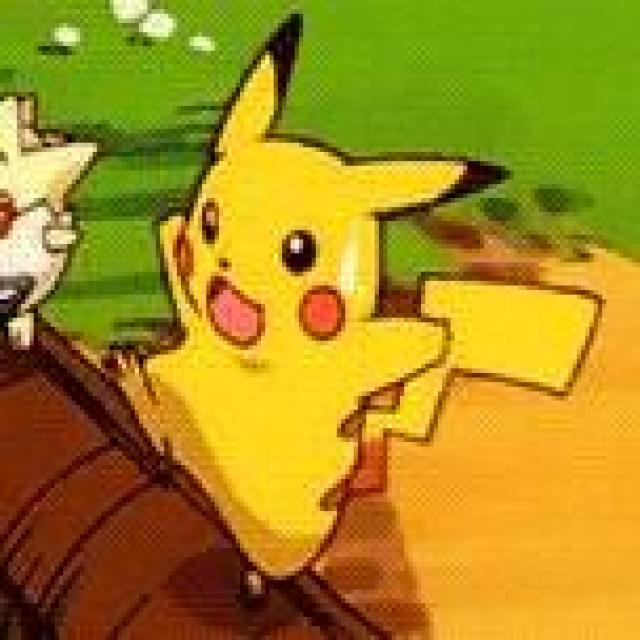pikachu: (108, 13, 605, 598)
